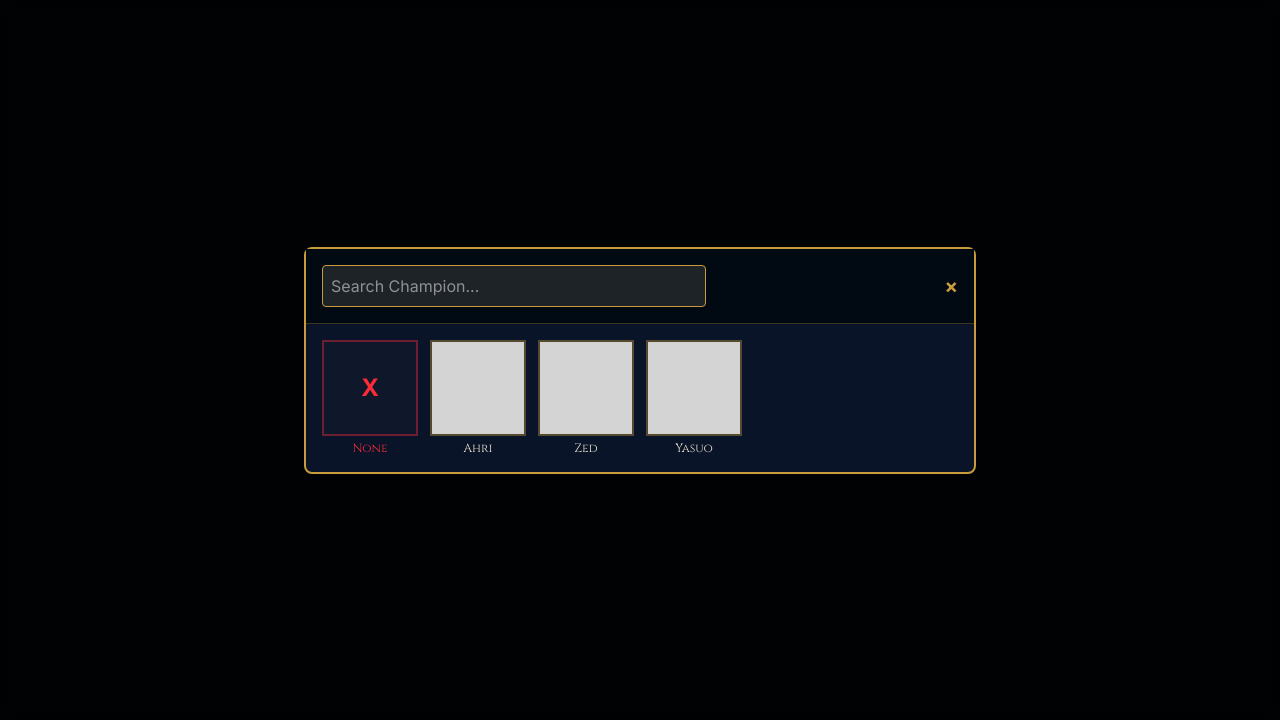
it: ChampionSelector › filters champions
In the field with placeholder "Search Champion...": (514, 286) [322,264,706,306], type "Zed"
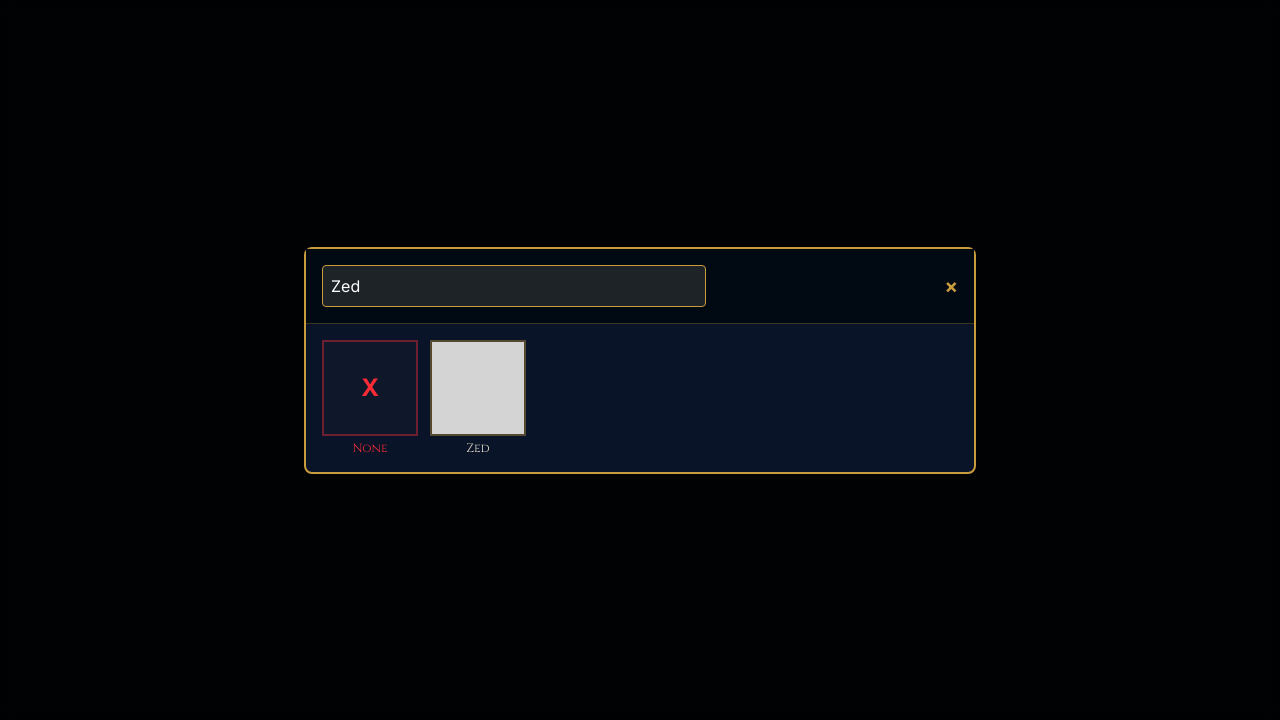
expect the text "Zed" is shown: met, box [466,440,490,456]
expect the button "Ahri" is gone: met
